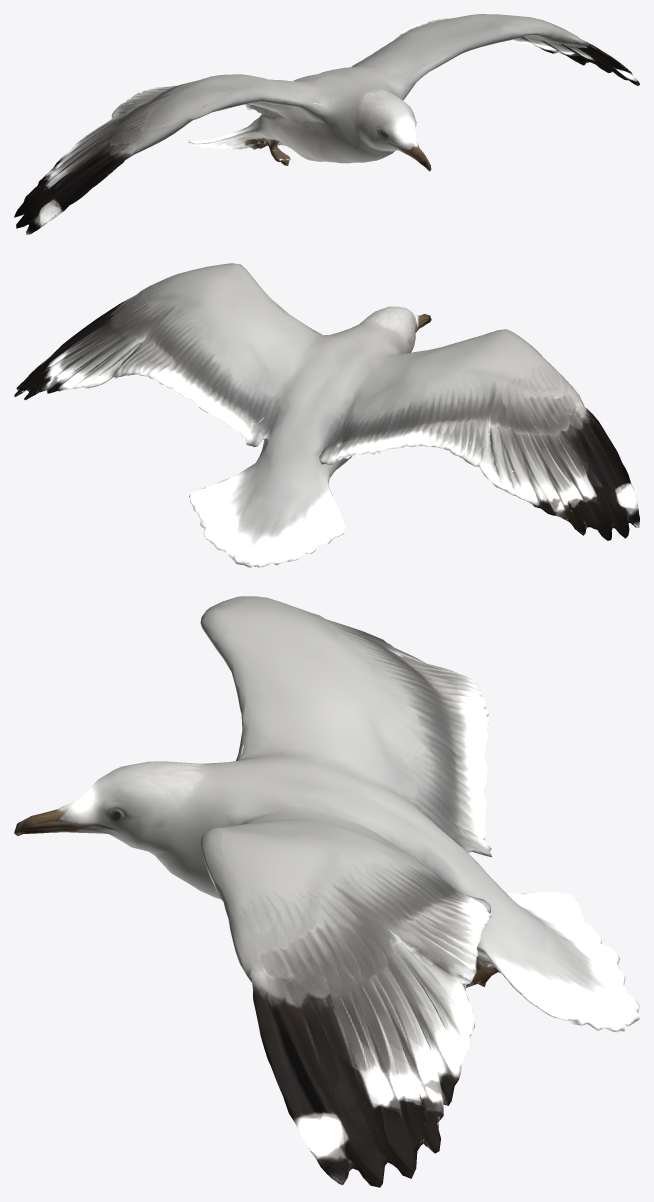
Rendered from gaivota.glb.
The picture shows the model from 3 angles, top to bottom: view 1: azimuth 30°, elevation 25°; view 2: azimuth 150°, elevation 25°; view 3: azimuth 270°, elevation 25°; orthographic projection. The views are drawn at different scales.
Parts seen in each view (by area): view 1: Mesh1.0; view 2: Mesh1.0; view 3: Mesh1.0.
Part boxes in pixels (<box>): Mesh1.0: <box>14,14,639,234</box>; Mesh1.0: <box>14,263,639,567</box>; Mesh1.0: <box>14,596,639,1187</box>.
Bounding box in the file's own units: 1.91 × 0.5278 × 1.01.
Materials: 1 (1 with a texture image).
